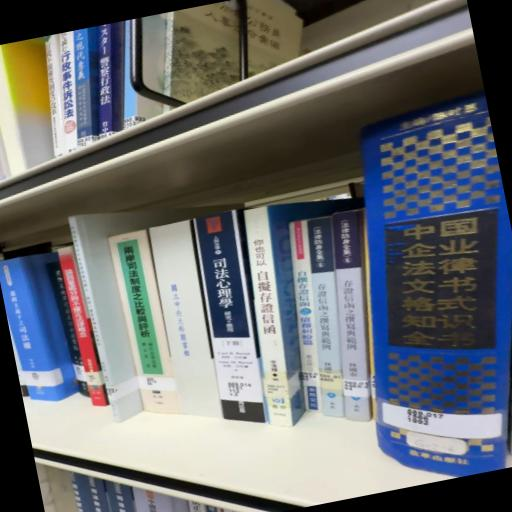backward: (146, 225, 230, 436)
book: (189, 213, 285, 436), (1, 248, 86, 404)
